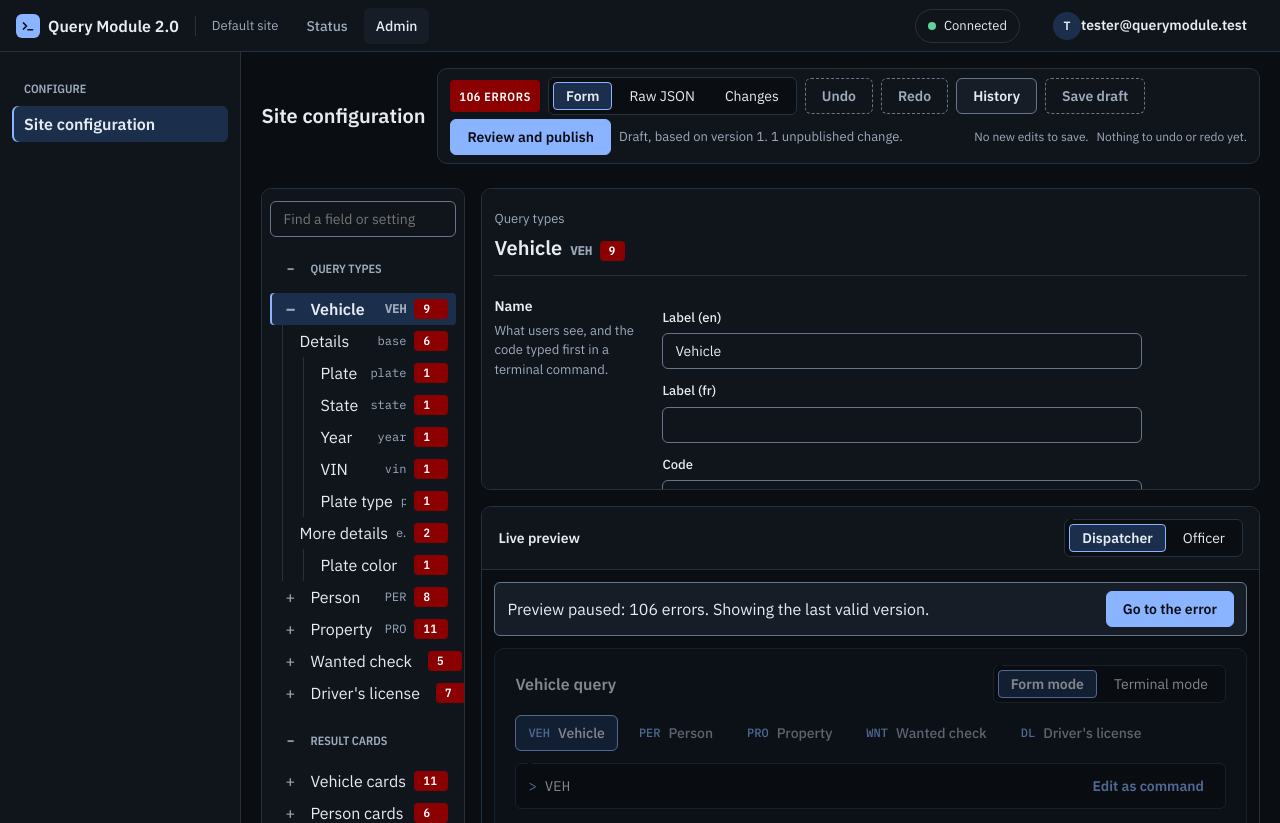
Test: the Changes view shows the live text it replaces (M1 exit Q1) › a changed override in another locale is Changed, from its live text
expect the tab "Form" is shown: met, box [553,82,612,110]
Click the tab "Changes". click: (752, 96)
box: [712,82,792,110]
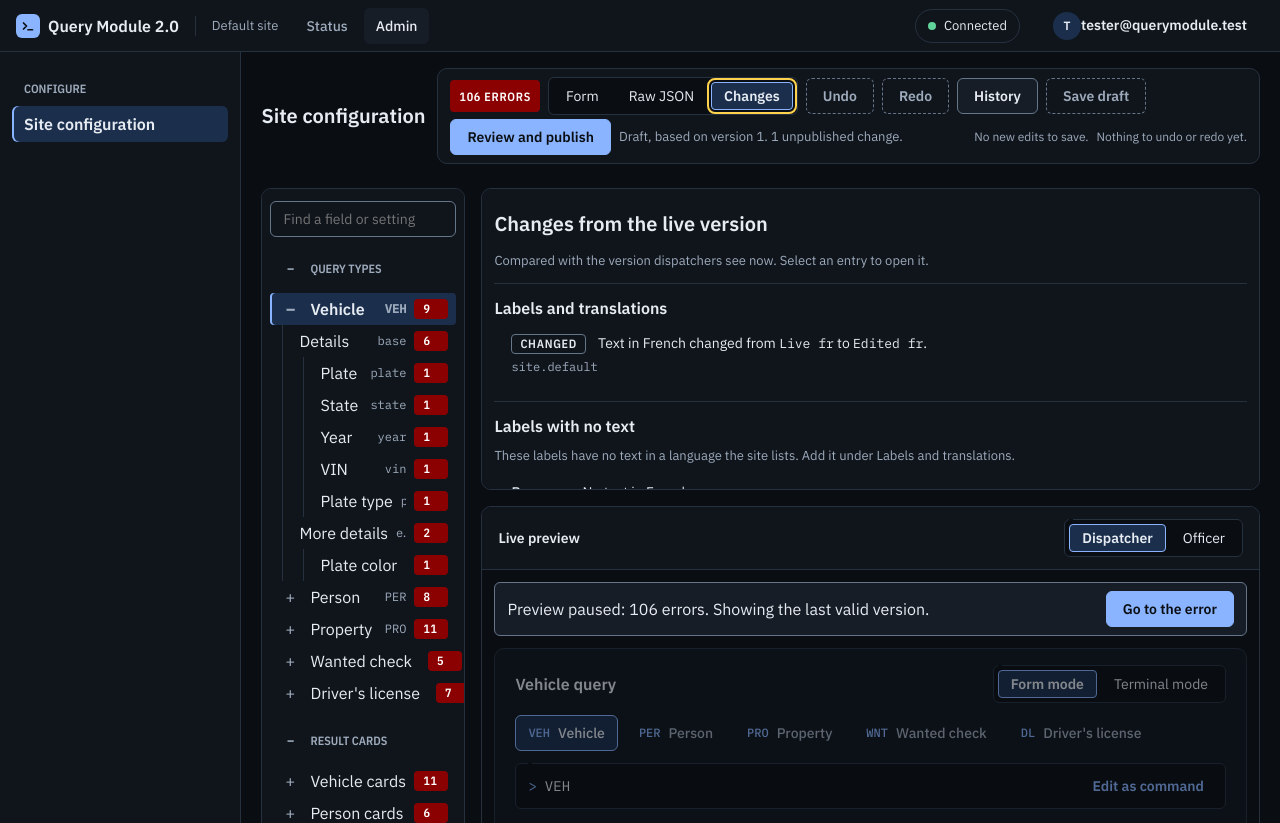
expect the list item "Text in " shows "Changed": met, box [494,328,1247,380]
expect the list item "Text in " shows "changed from Live fr to Edited fr": met, box [494,328,1247,380]
